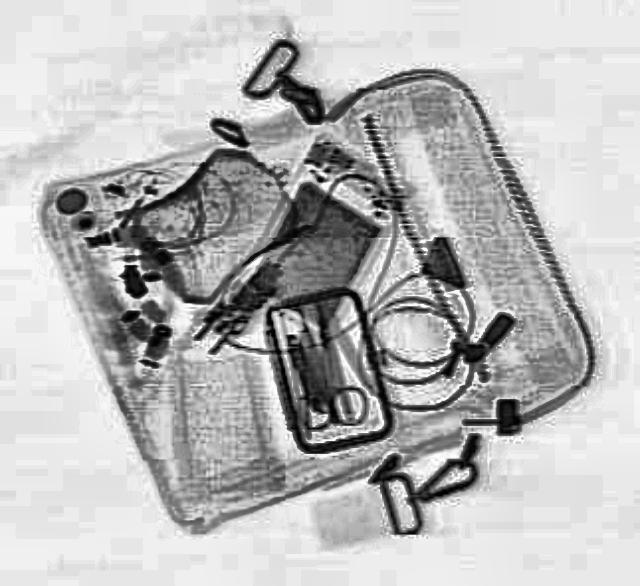Scissors: (278, 300, 369, 430)
